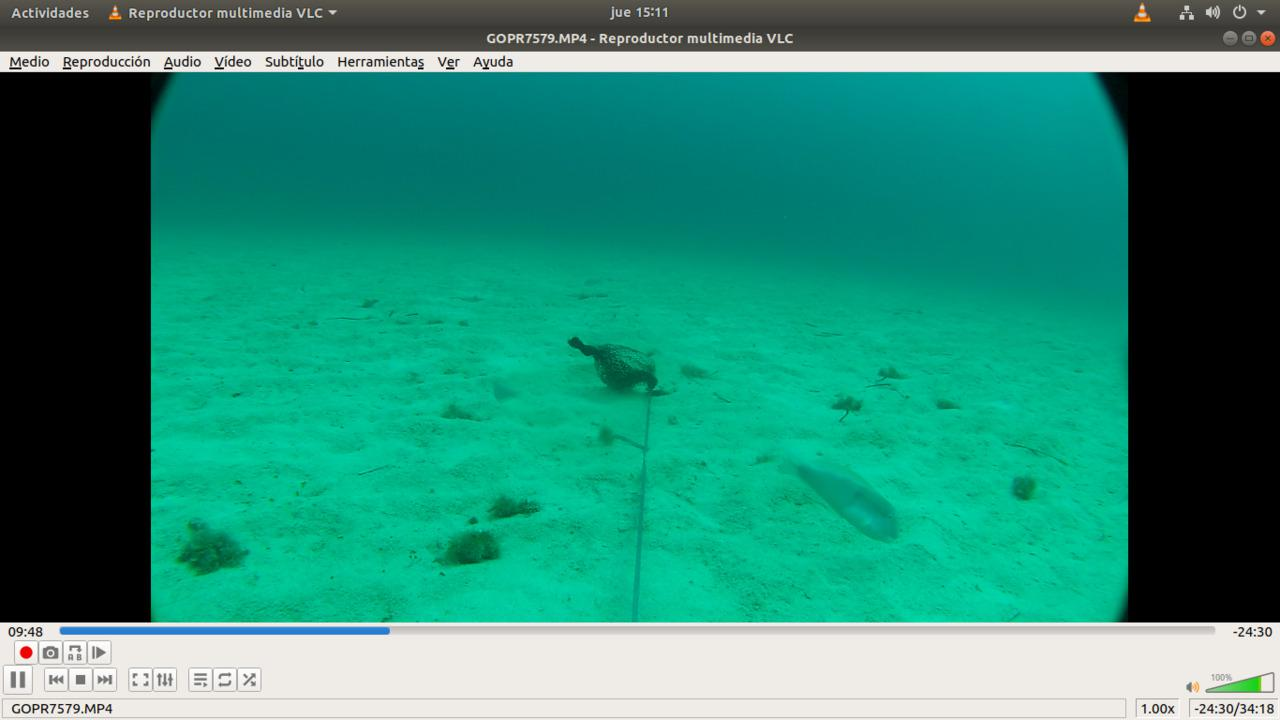raor: (774, 451, 909, 547)
